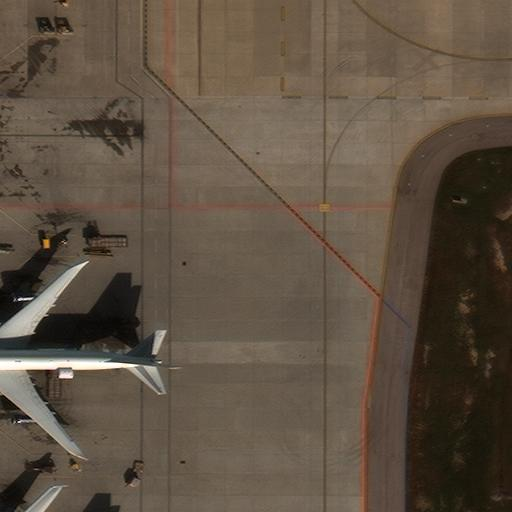Large Civil Transport: (0, 266, 163, 455)
